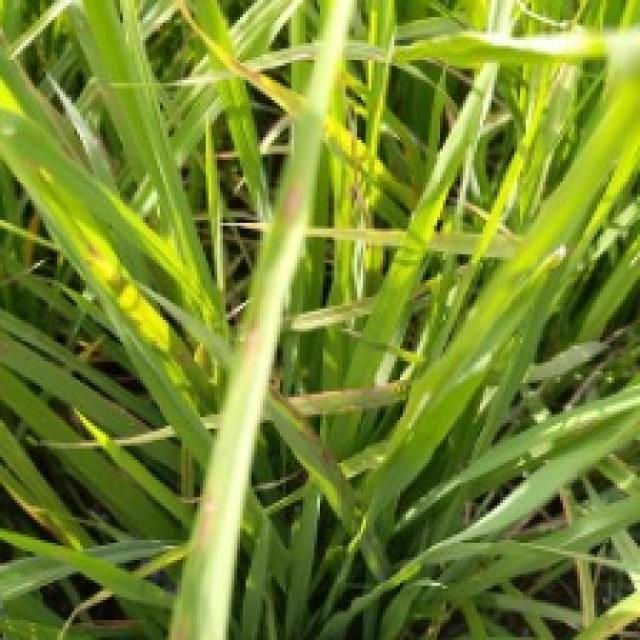Rice___Brown_Spot: (164, 0, 355, 637)
